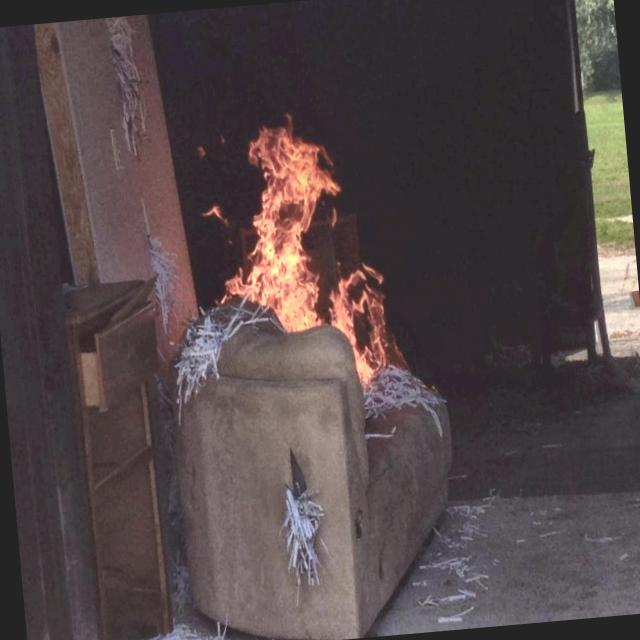fire: (210, 110, 392, 373)
